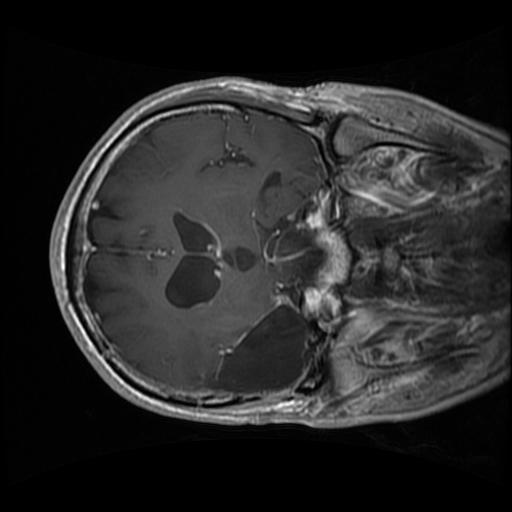glioma: (196, 293, 323, 402)
